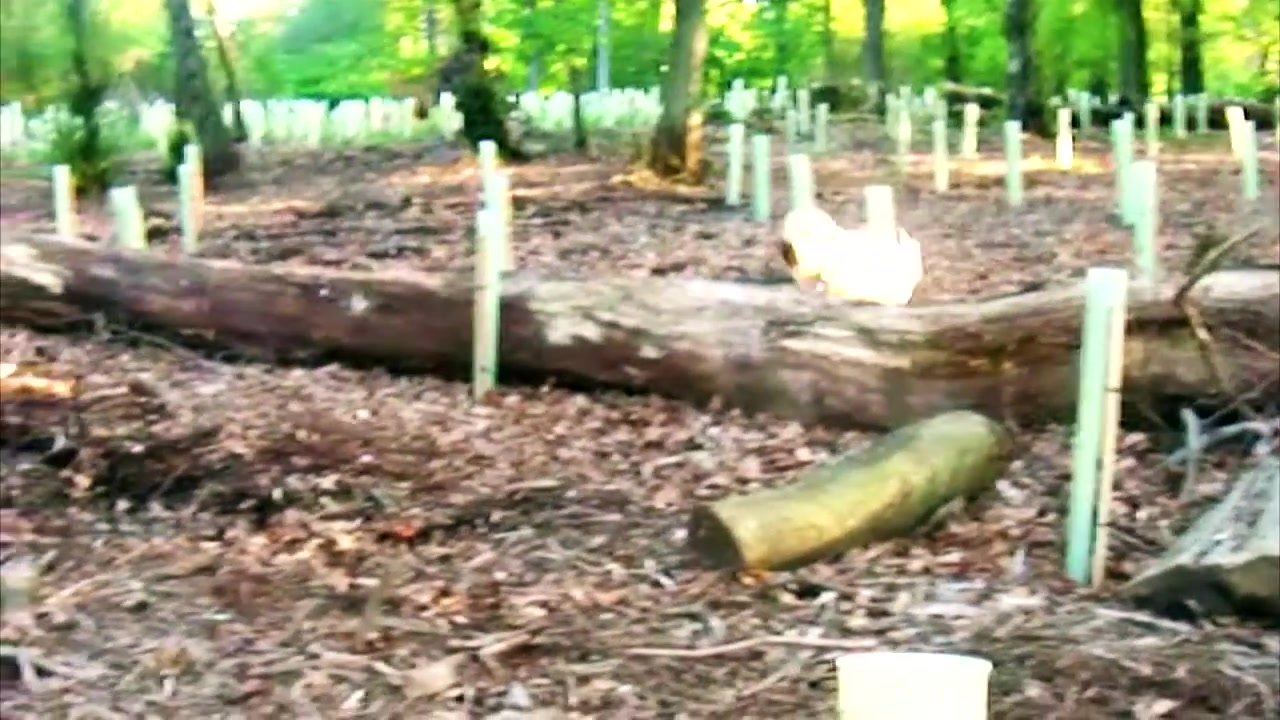dog: (781, 202, 928, 310)
